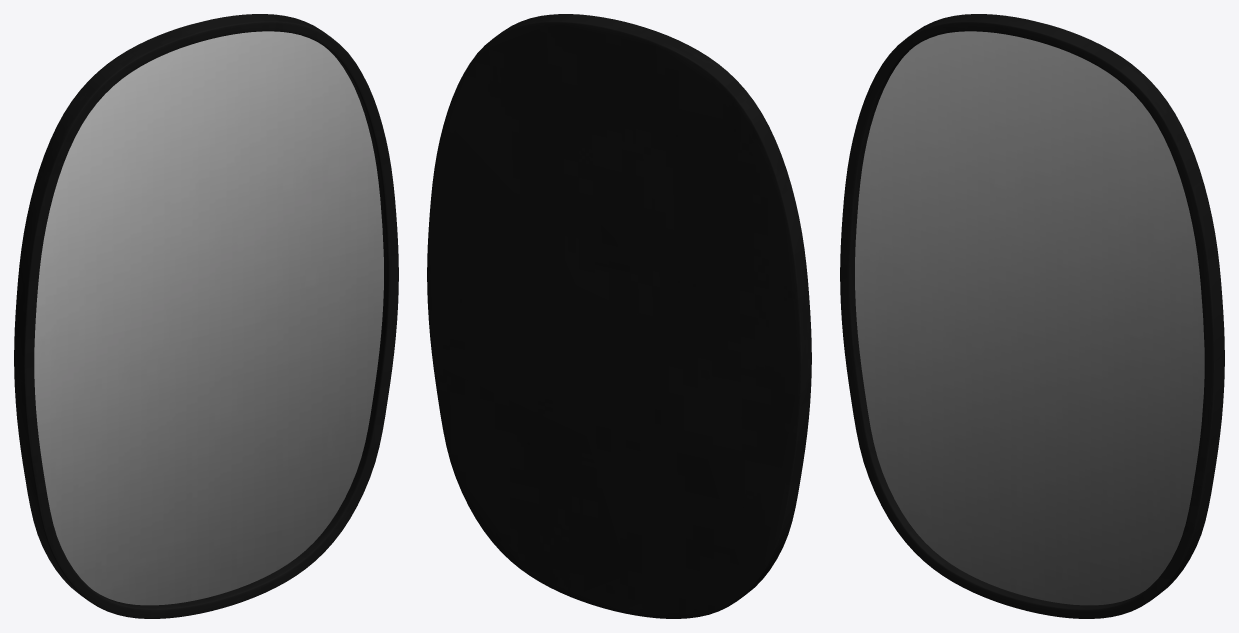
Rendered from abo-b07b92c9wt.1a0a254638.glb.
3 renders of one model, left to right at view 1: azimuth 30°, elevation 25°; view 2: azimuth 150°, elevation 25°; view 3: azimuth 330°, elevation 25°, orthographic.
Visible parts, largest first — view 1: RootNode; view 2: RootNode; view 3: RootNode.
Part boxes in pixels (left/top/right/bottom): RootNode: left=14, top=14, right=398, bottom=618; RootNode: left=427, top=14, right=811, bottom=618; RootNode: left=840, top=14, right=1224, bottom=618.
Bounding box in the file's own units: 0.7243 × 1.07 × 0.0373.
Materials: 1 (1 with a texture image).
